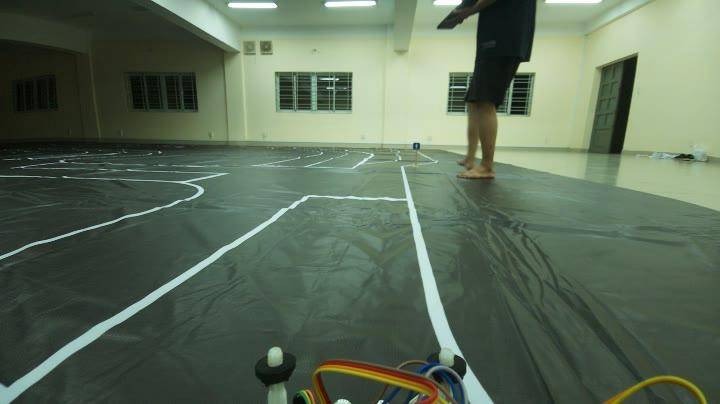onewayroad: (411, 140, 423, 152)
